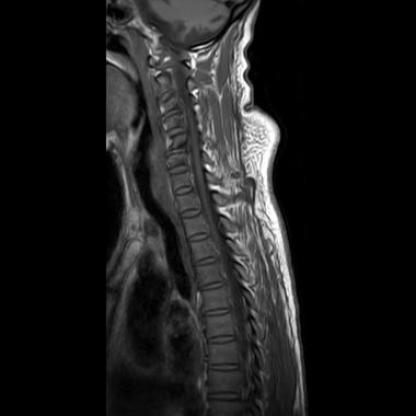Disc Protrusionrotation: (159, 108, 186, 121)
